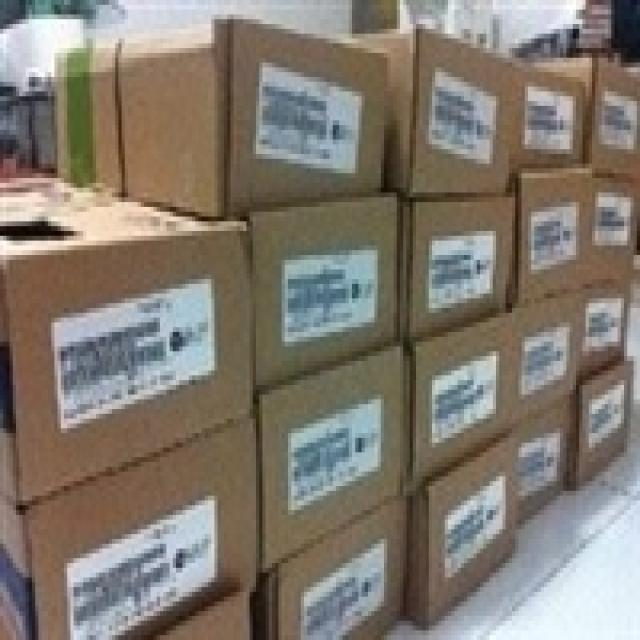box: (0, 174, 257, 504), (56, 12, 388, 218), (0, 409, 259, 635), (259, 342, 409, 573), (244, 190, 400, 391), (340, 25, 515, 198), (250, 492, 412, 635), (405, 429, 516, 627), (406, 303, 515, 485), (400, 188, 516, 343), (538, 56, 637, 173), (512, 278, 583, 423), (517, 163, 589, 301), (510, 58, 587, 175), (510, 391, 573, 524), (572, 356, 631, 487), (576, 271, 630, 381), (585, 170, 637, 275), (148, 587, 250, 635)
